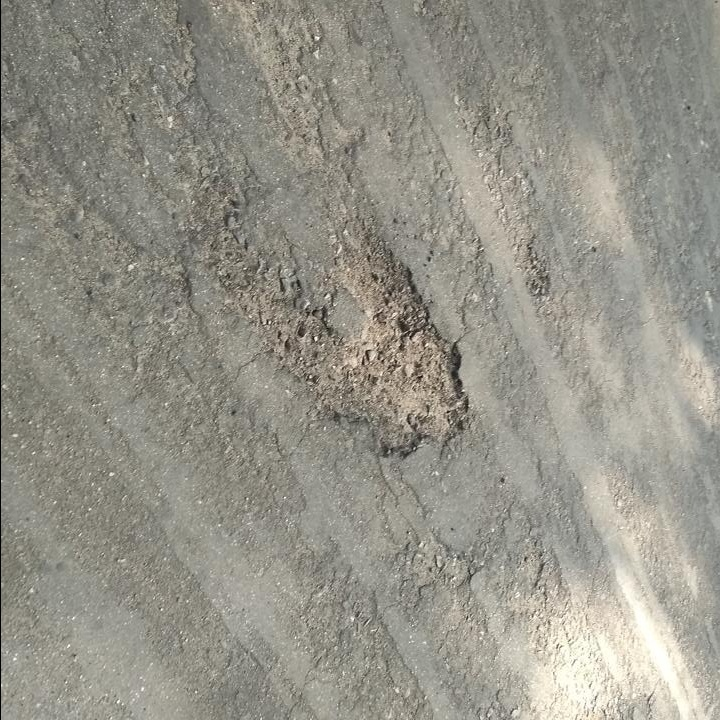pothole: (231, 222, 476, 466)
